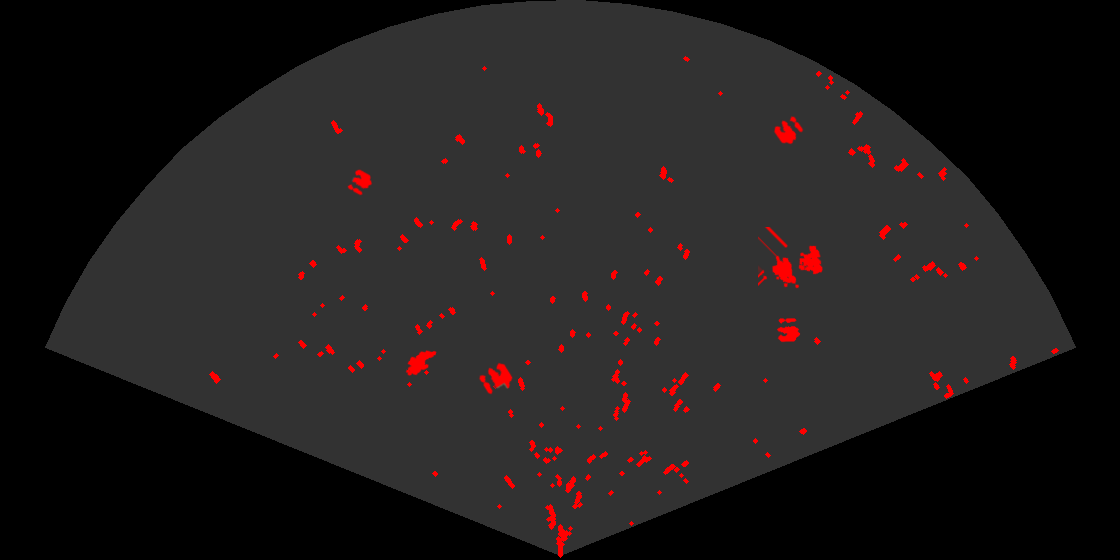AUV: (404, 349, 438, 377)
ball: (477, 361, 514, 396), (772, 114, 805, 146), (346, 168, 374, 197), (775, 317, 802, 344)
cage: (758, 227, 824, 290)
